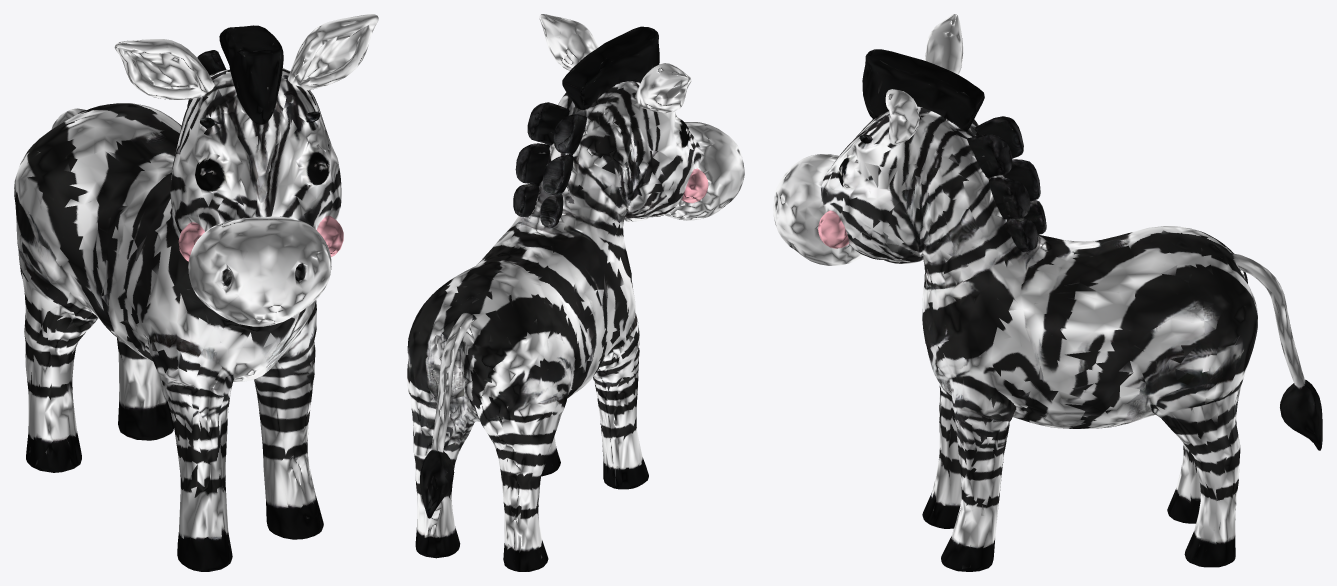
Rendered from zebra.glb.
3 views of the same model, side by side, from view 1: azimuth 30°, elevation 25°; view 2: azimuth 150°, elevation 25°; view 3: azimuth 270°, elevation 25° (orthographic). The views are drawn at different scales.
Visible parts, largest first — view 1: bdec__14c5wyq.glb; view 2: bdec__14c5wyq.glb; view 3: bdec__14c5wyq.glb.
Part boxes in pixels (box(x1,y1,x2,y2)): bdec__14c5wyq.glb: box(14, 14, 378, 571); bdec__14c5wyq.glb: box(407, 14, 744, 571); bdec__14c5wyq.glb: box(773, 14, 1322, 571).
Bounding box in the file's own units: 0.4227 × 0.9545 × 1.
1 material, 1 textured.
